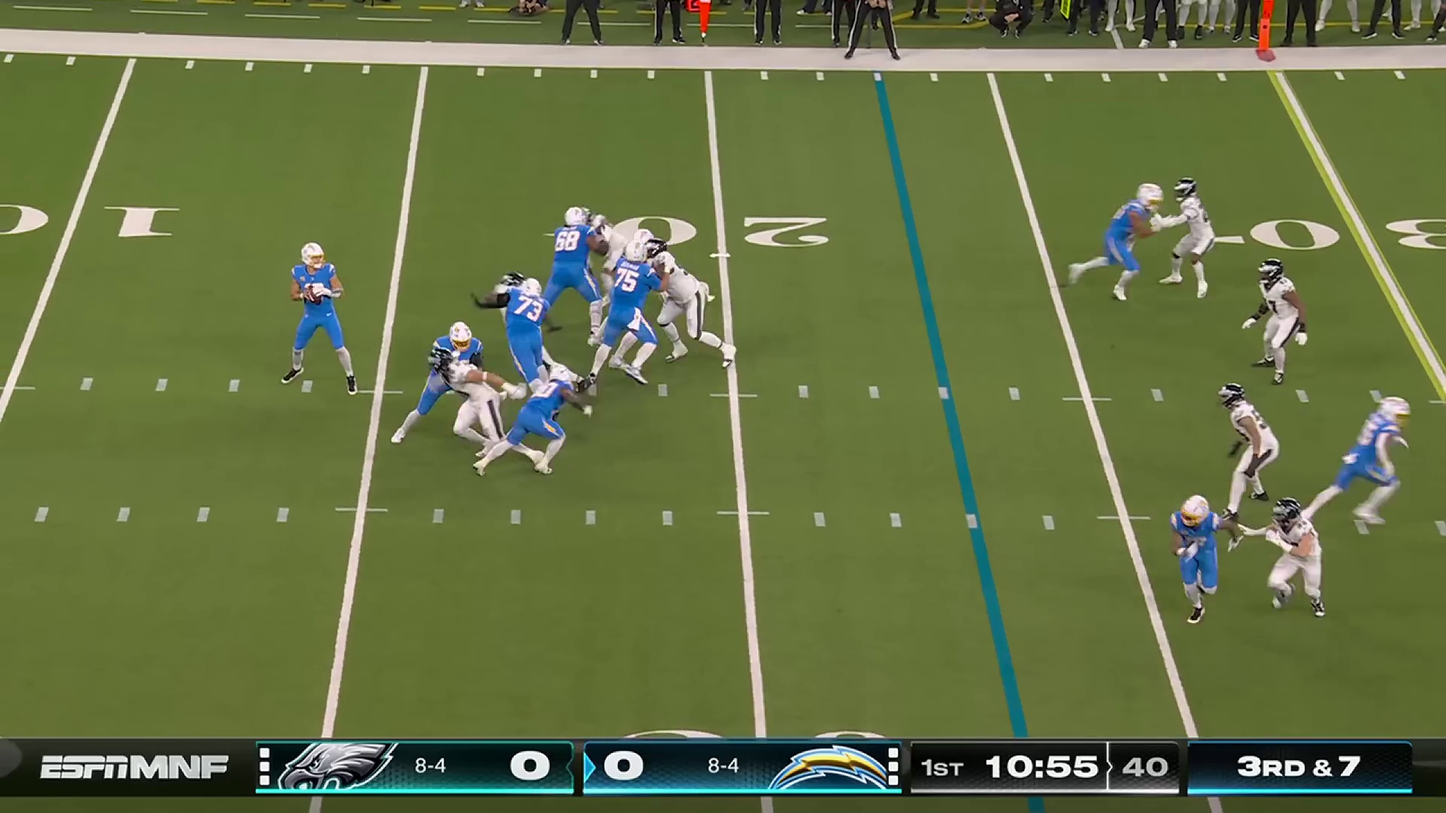ball: (300, 283, 325, 309)
player: (484, 269, 592, 405), (1314, 402, 1424, 529), (284, 243, 368, 395), (430, 352, 528, 475), (1205, 380, 1293, 510), (1162, 495, 1235, 636), (1267, 495, 1341, 624), (408, 323, 481, 450), (653, 254, 722, 374), (520, 367, 579, 497), (1098, 191, 1163, 308), (505, 277, 568, 386), (1242, 256, 1306, 363), (599, 243, 648, 379), (1165, 169, 1214, 305), (577, 205, 639, 297), (552, 212, 594, 330), (608, 228, 650, 336)
